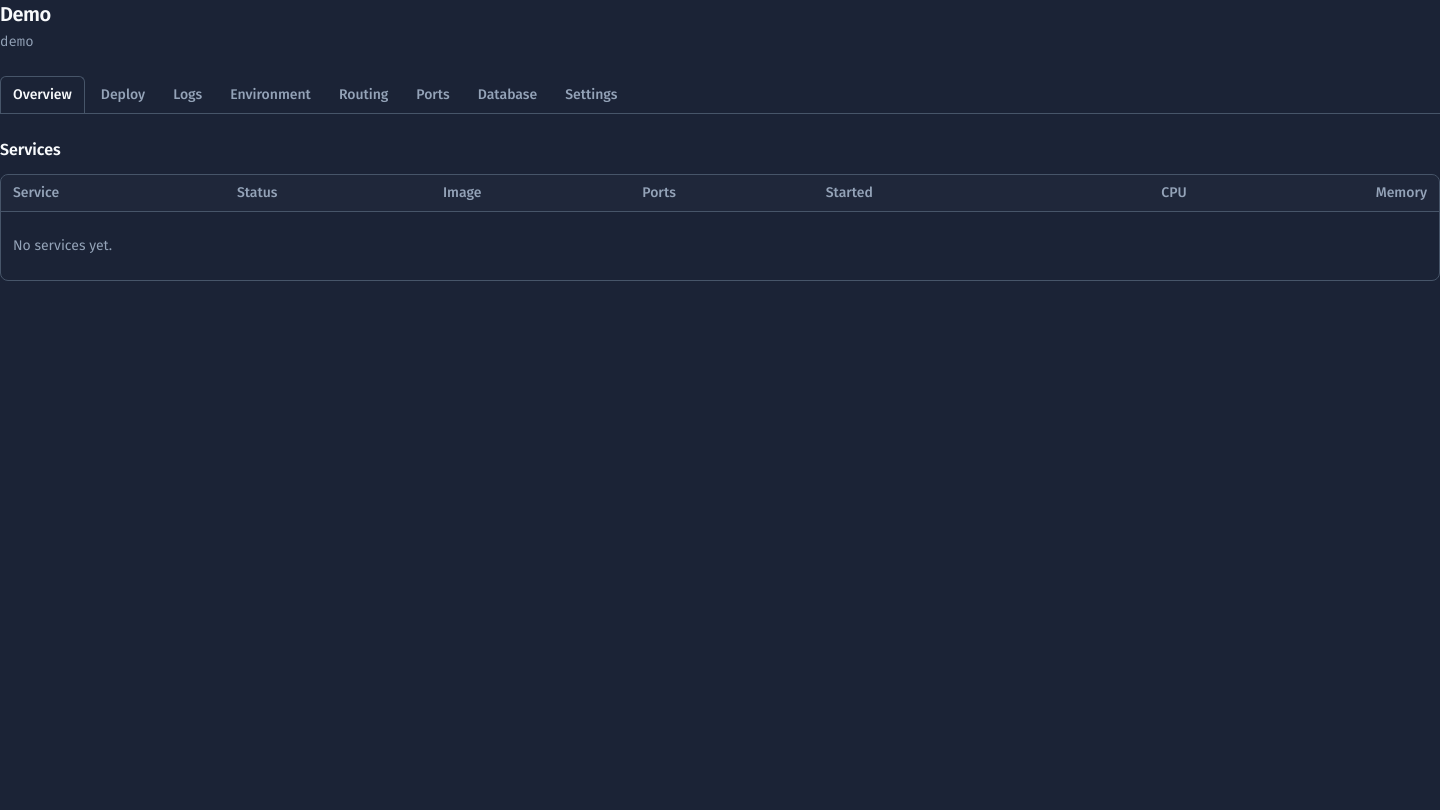
ProjectPage database rotate › asks to deploy after an environment save
Expected: the heading "Demo" is shown, [0,2,51,26]
Click the tab "Environment". click: x=271, y=94
box: [218,76,323,113]
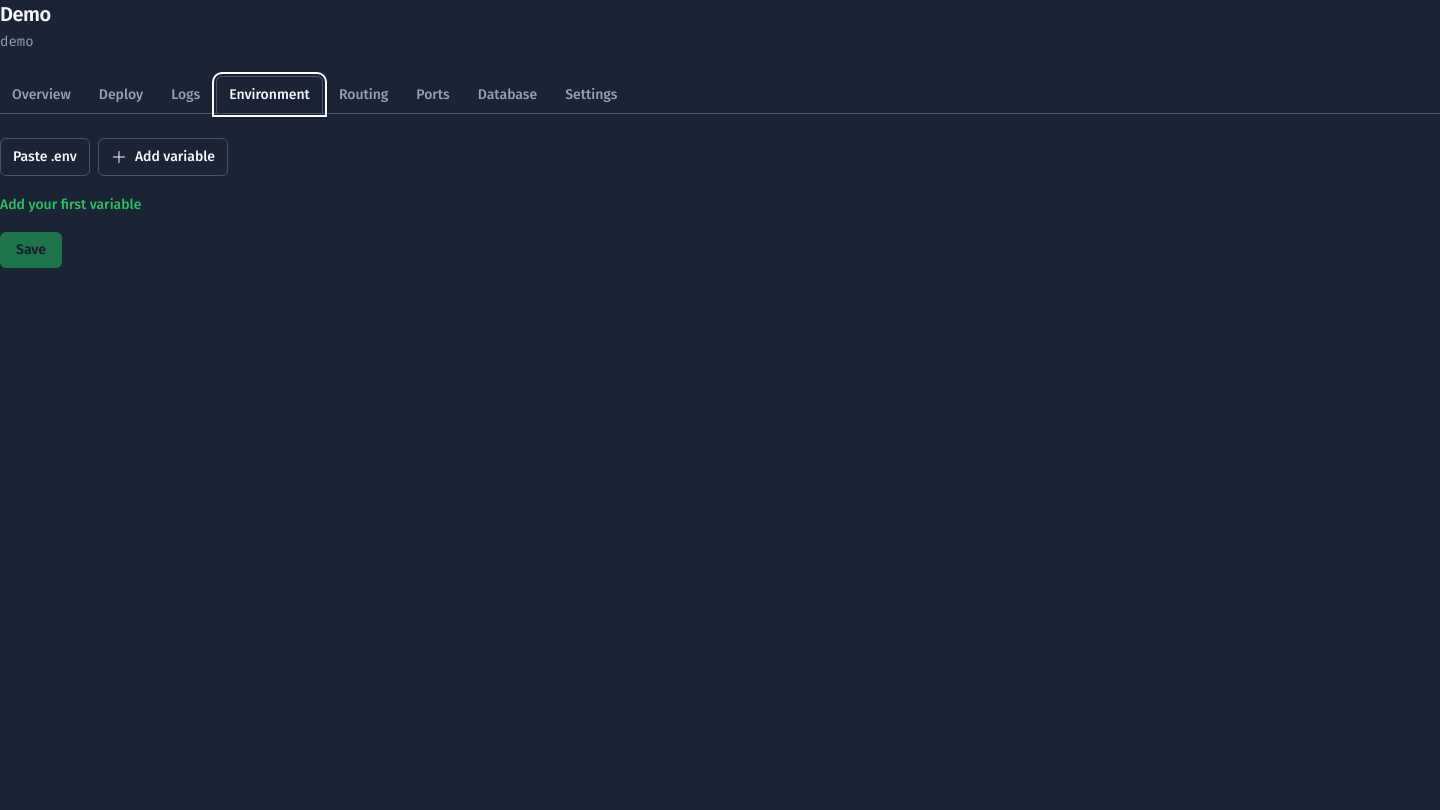
Click the button "Add variable". click: x=163, y=157
box: [98,138,228,176]
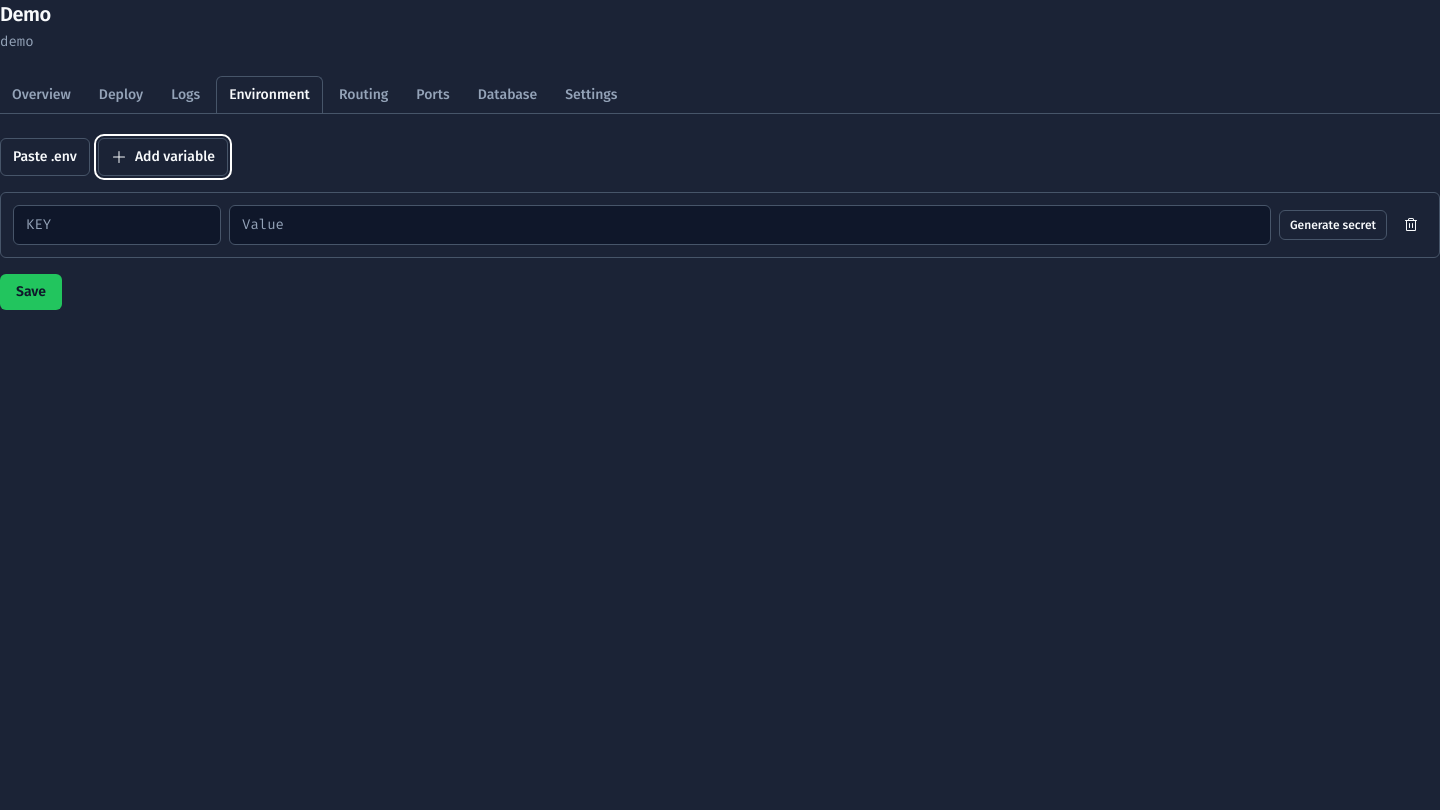
Click the button "Save". click: x=31, y=292
box: [0,274,62,310]
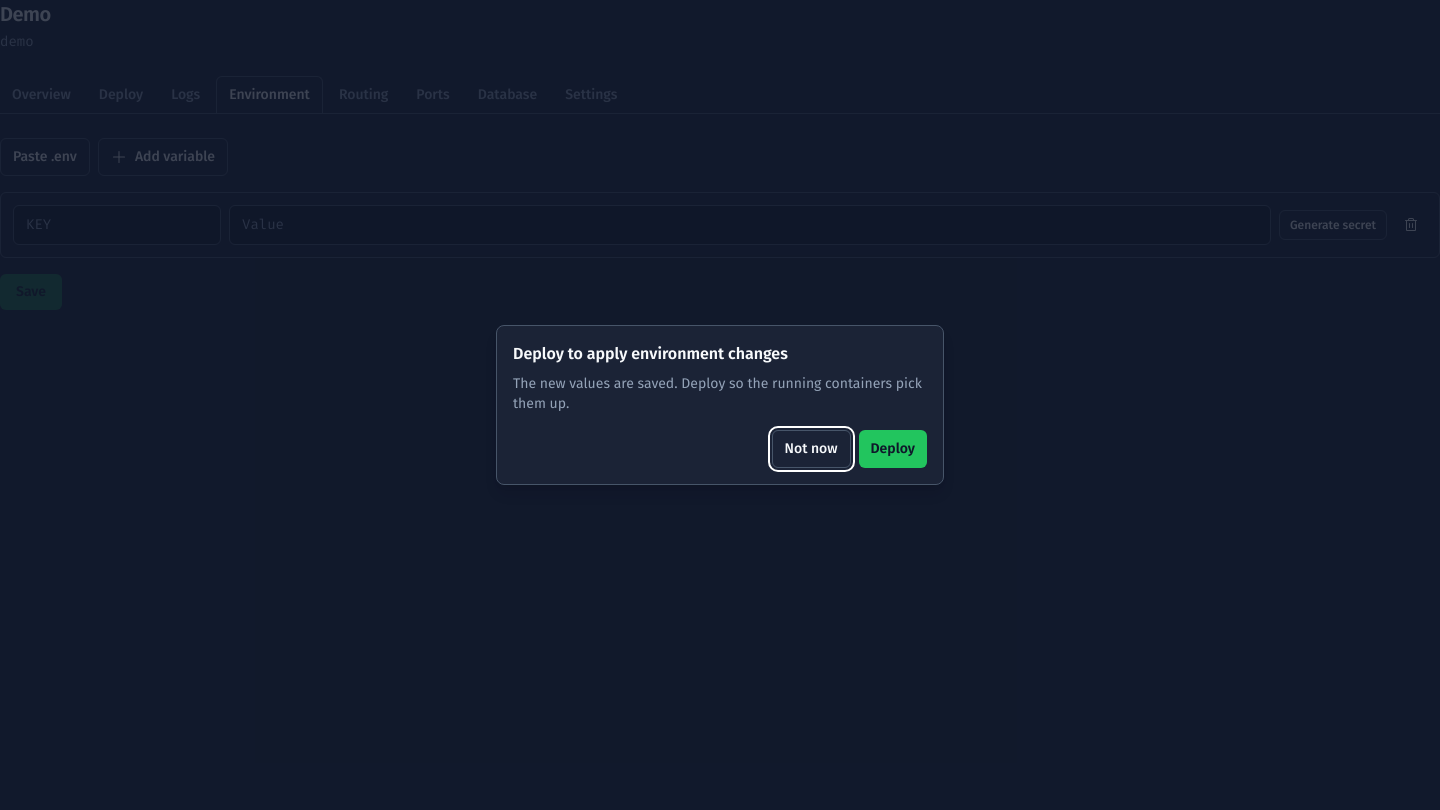
Now the dialog "Deploy to apply environment changes" is shown, box [496,325,944,485]
